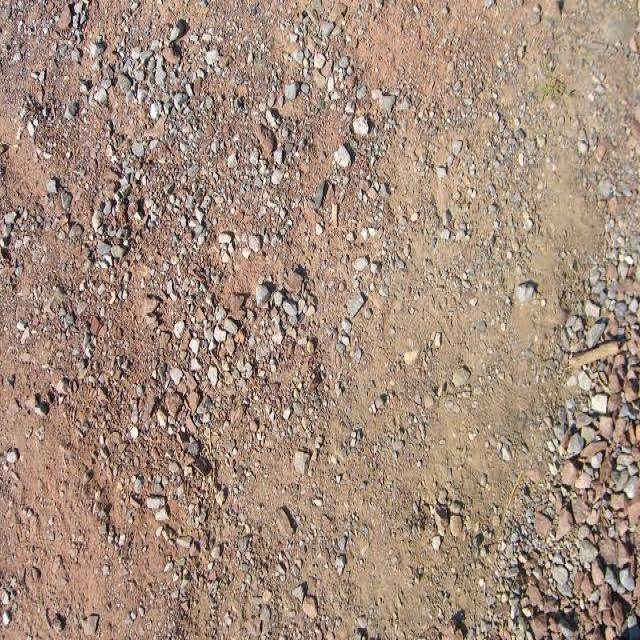suelo_seco: (72, 58, 560, 535)
